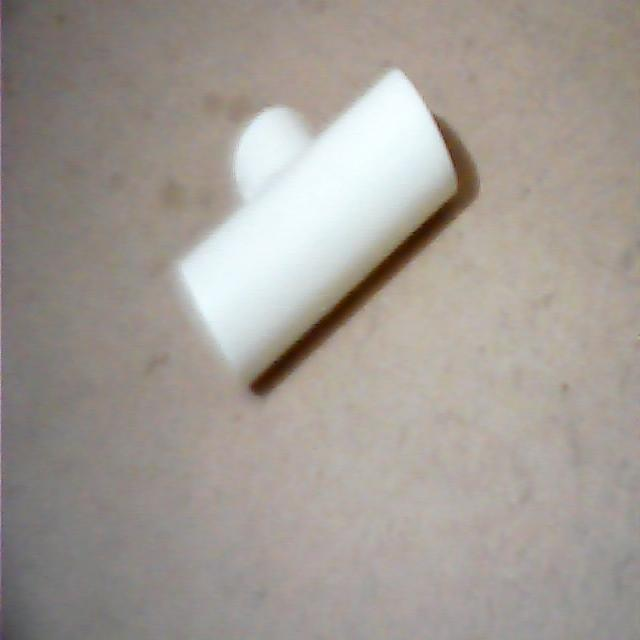T Joint: (171, 69, 459, 396)
